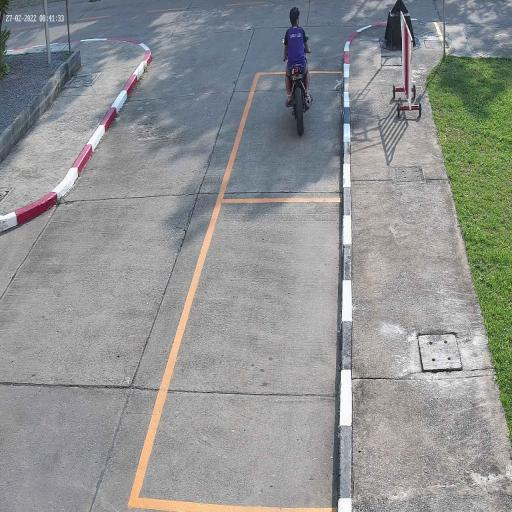motorcycle: (286, 59, 313, 139)
